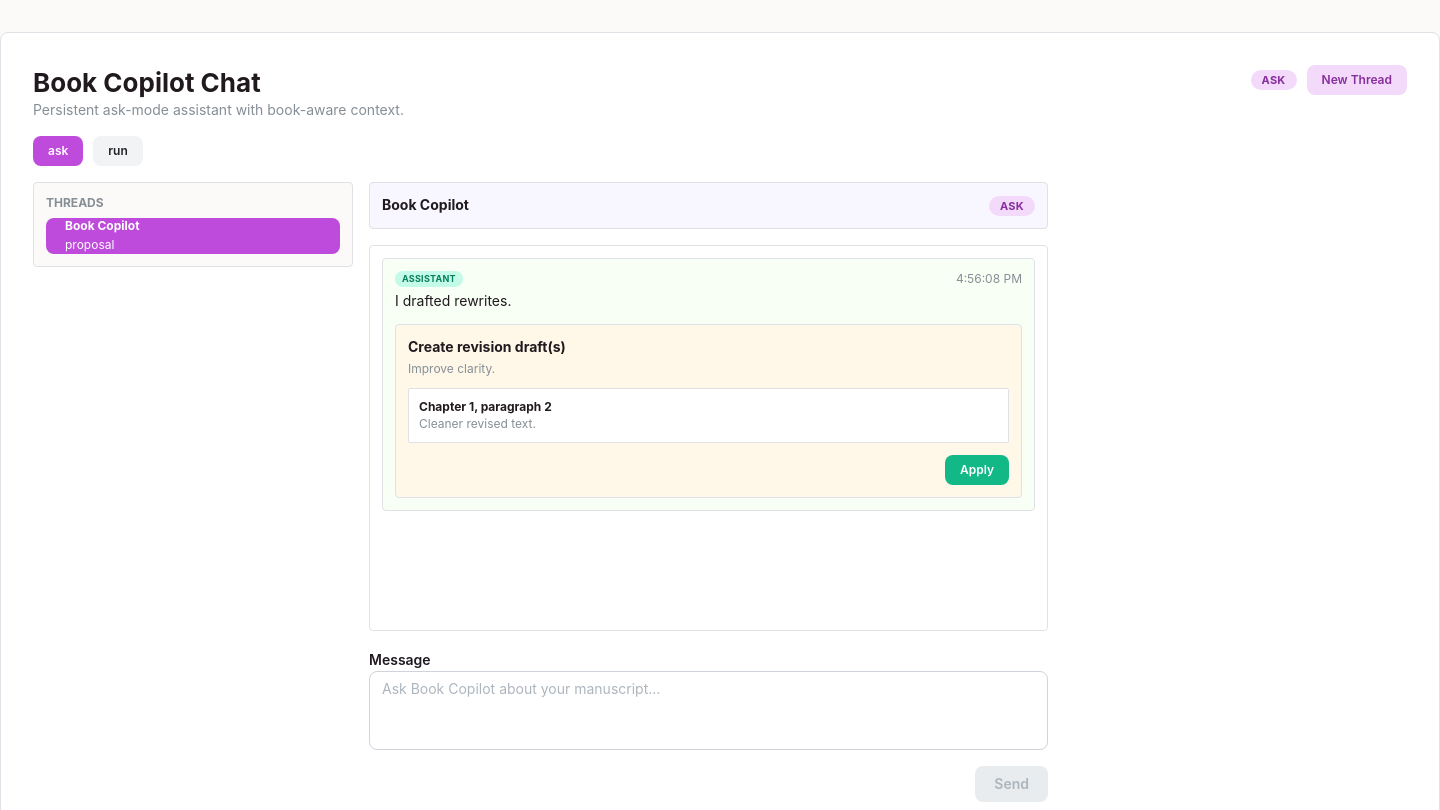
Test: BookChatRail › submits create_revision_draft apply mode for revision draft proposals
This screenshot has width=1440, height=810.
Check: the text "Create revision draft(s)" is shown, box [408,337,566,357]
Click the button "Apply": click(977, 470) [945,456,1009,486]
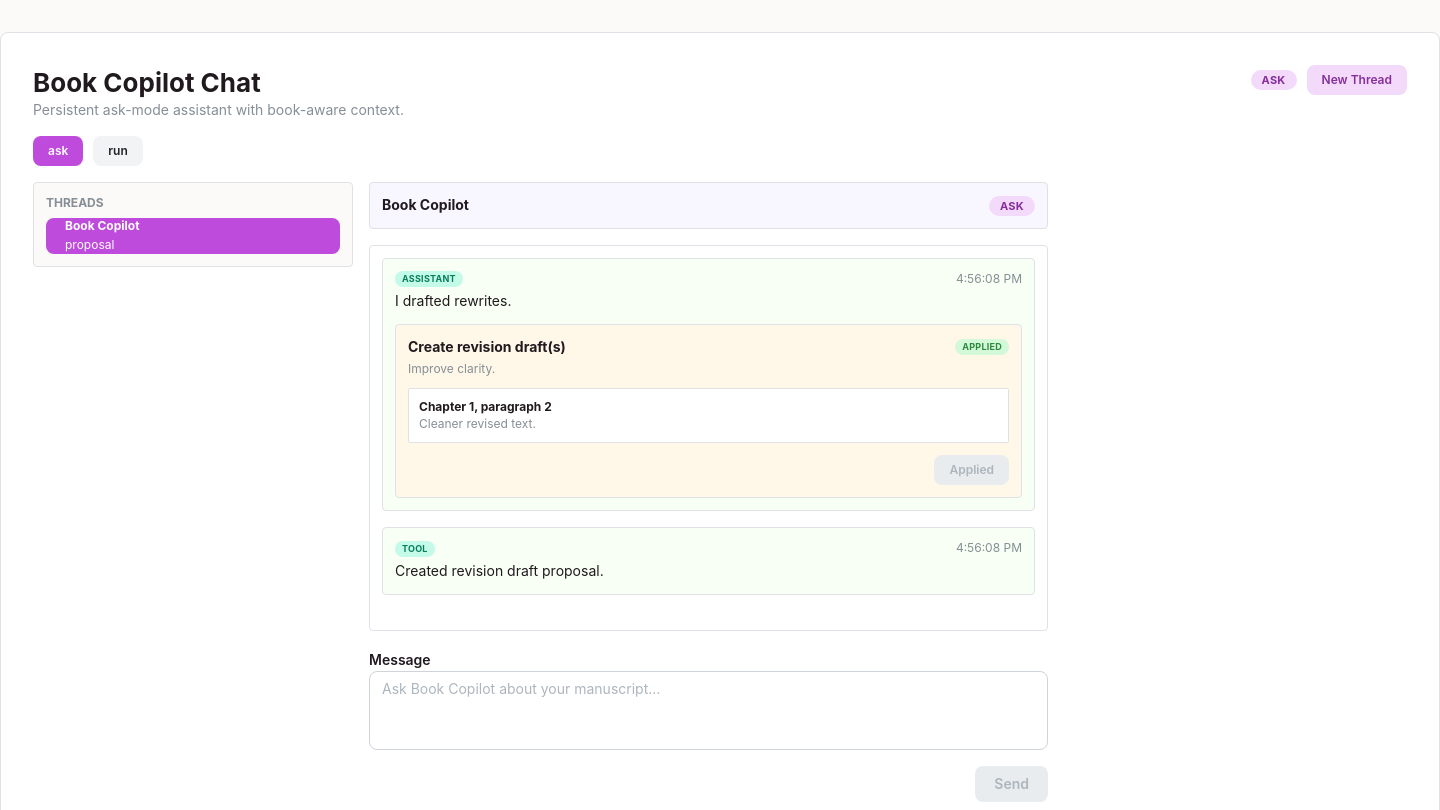
Check: the text "Applied" is shown 2 times, box [962,340,1002,354]; [949,462,994,478]
Check: the button "Applied" is disabled, box [934,456,1009,486]
